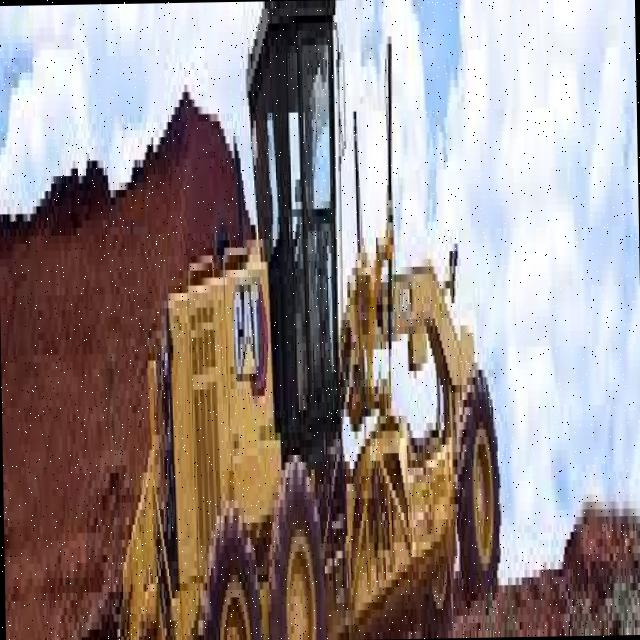Grader: (122, 11, 511, 640)
